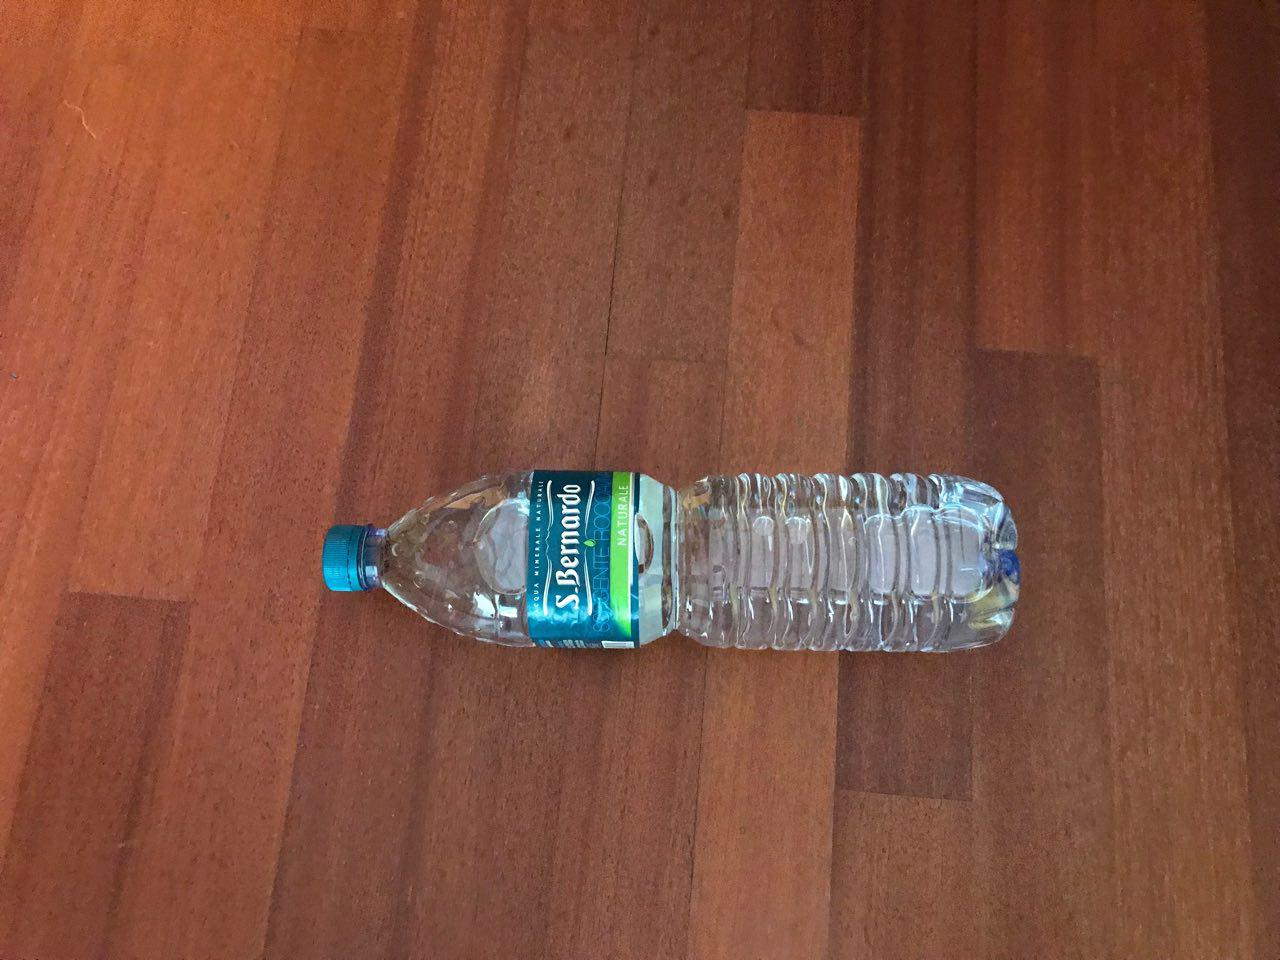san_bernardo: (321, 467, 1021, 653)
